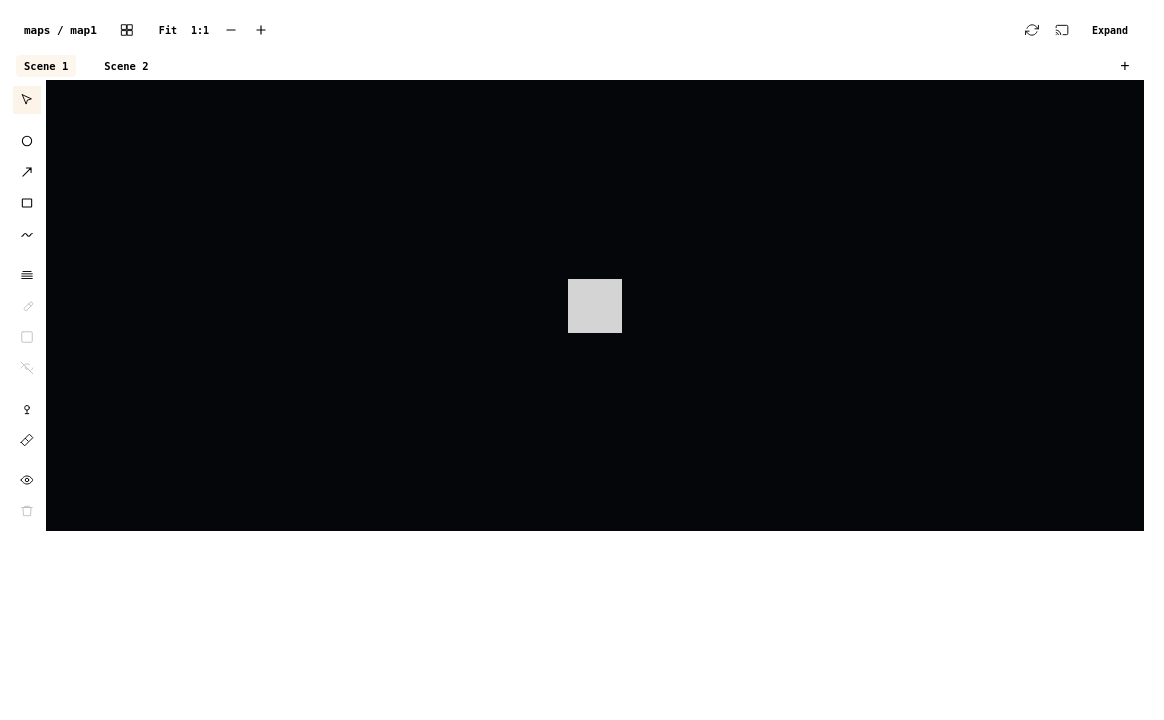
Test case: MapDisplay - scene switching › transition shield appears immediately when switching to a scene with a different map
Note: Switch to Scene 2 - shield must appear in the same render as the switch
Click the button "Scene 2" at point(126, 66), box [96,55,157,77]
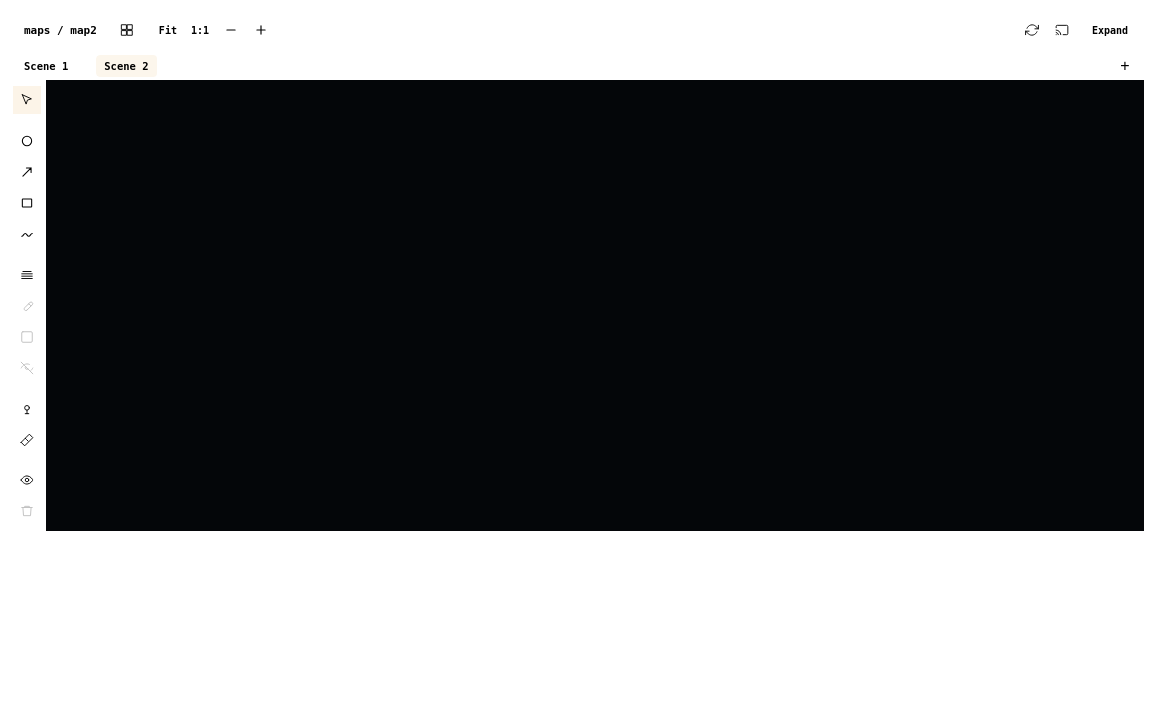
Check: the element with test id "transition-shield" is shown, box [46,80,1144,531]
